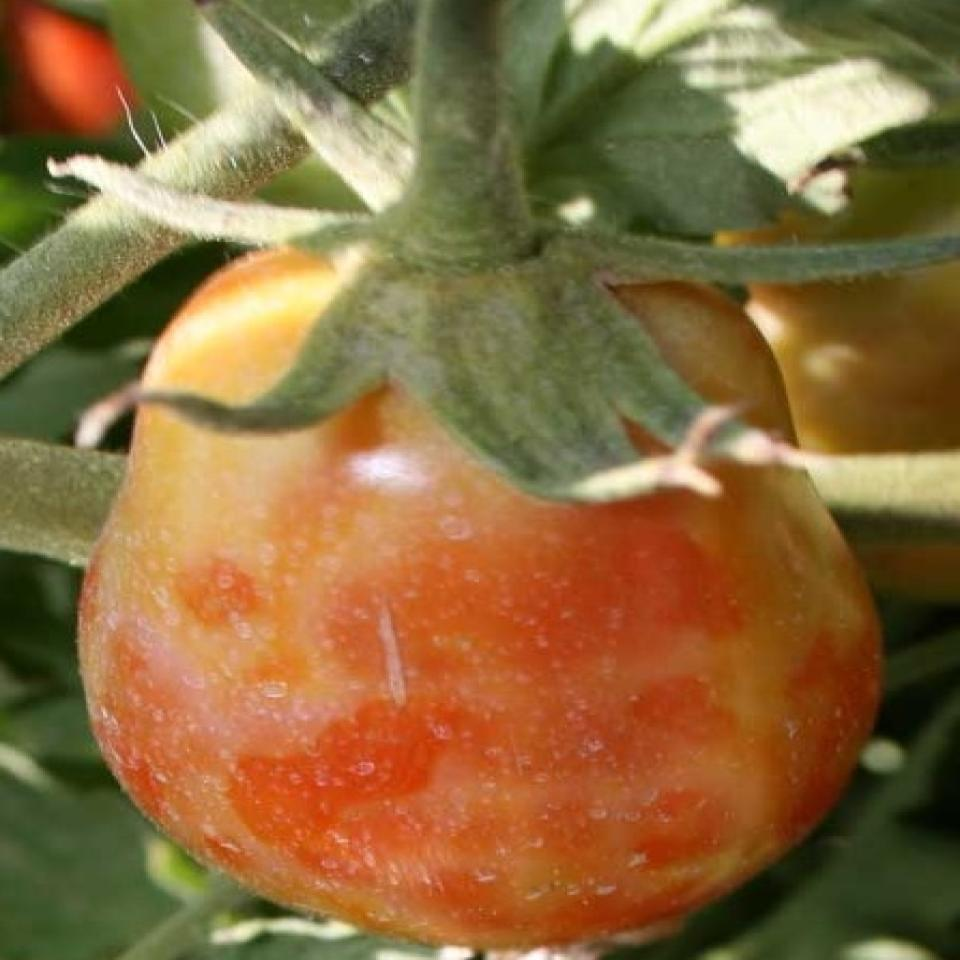Spotted wilt Virus: (90, 188, 878, 945)
